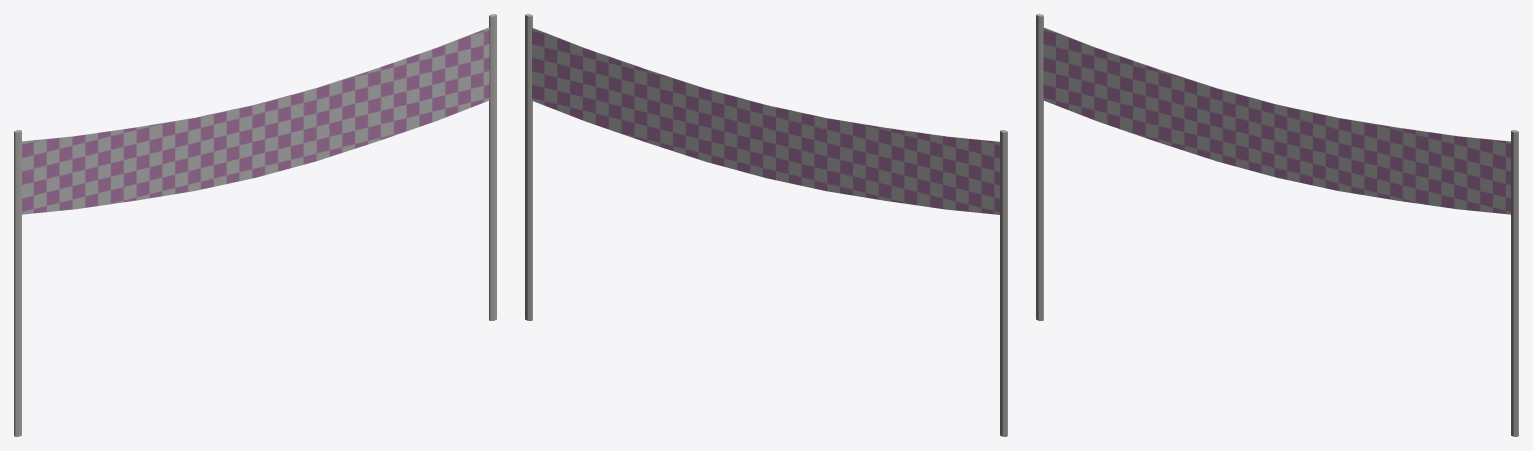
File: Finishline_Main.fbx
The picture shows the model from 3 angles, left to right: view 1: azimuth 30°, elevation 25°; view 2: azimuth 150°, elevation 25°; view 3: azimuth 330°, elevation 25°; orthographic projection.
Visible parts, largest first — view 1: Poles; view 2: Poles; view 3: Poles.
Boxes of the visible parts, x1,y1,x2,y2 form: Poles: [14, 14, 496, 436]; Poles: [525, 14, 1007, 436]; Poles: [1036, 14, 1518, 436].
Bounding box in the file's own units: 734 × 444 × 7.6.
Materials: 1 (1 with a texture image).
